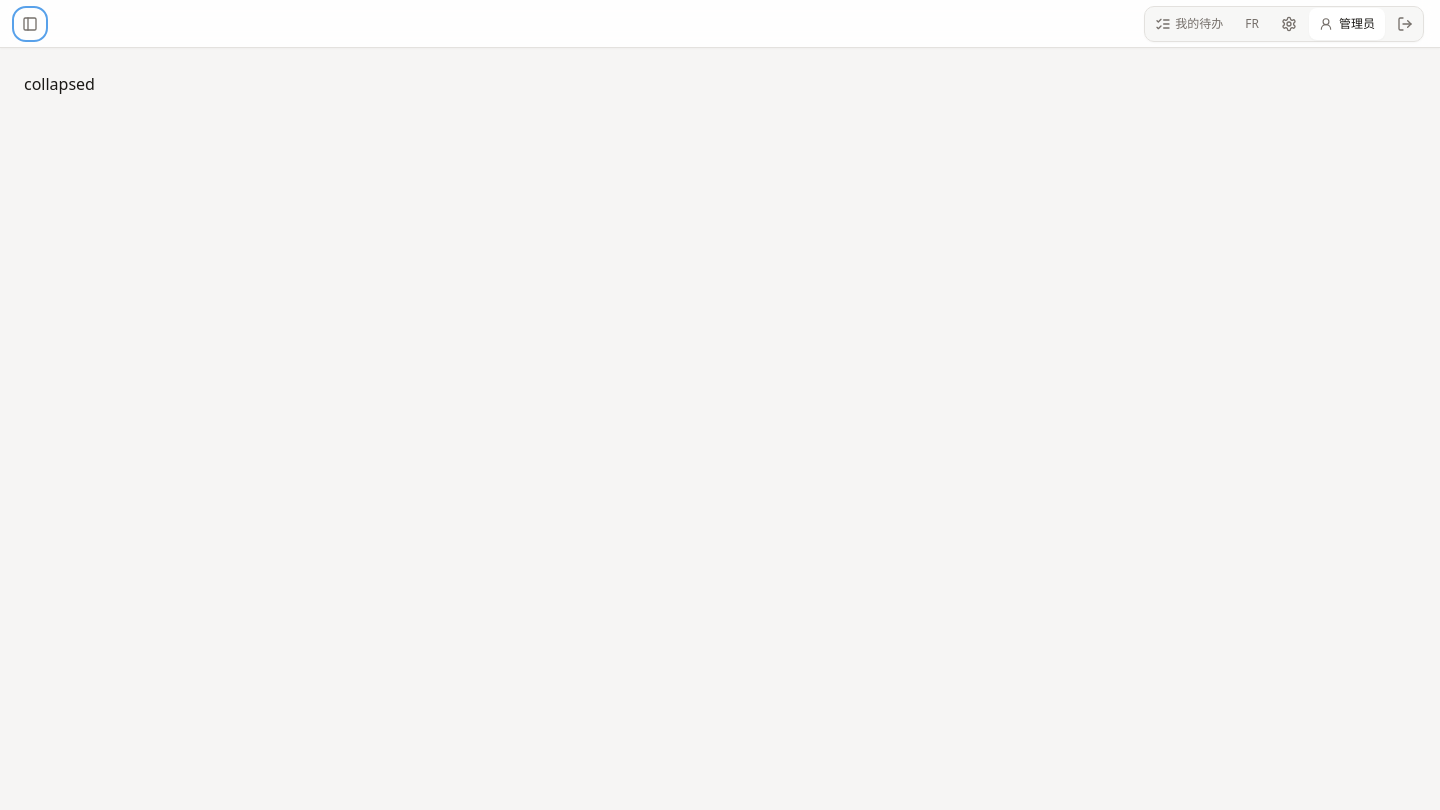
Test case: opens a named real Radix zh dialog even with a collapsed desktop preference
The image size is (1440, 810).
Expected: the text "collapsed" is shown, 24,73 -> 95,95
Click the button named "切换导航" at x=30, y=24, box 16,10 -> 44,38
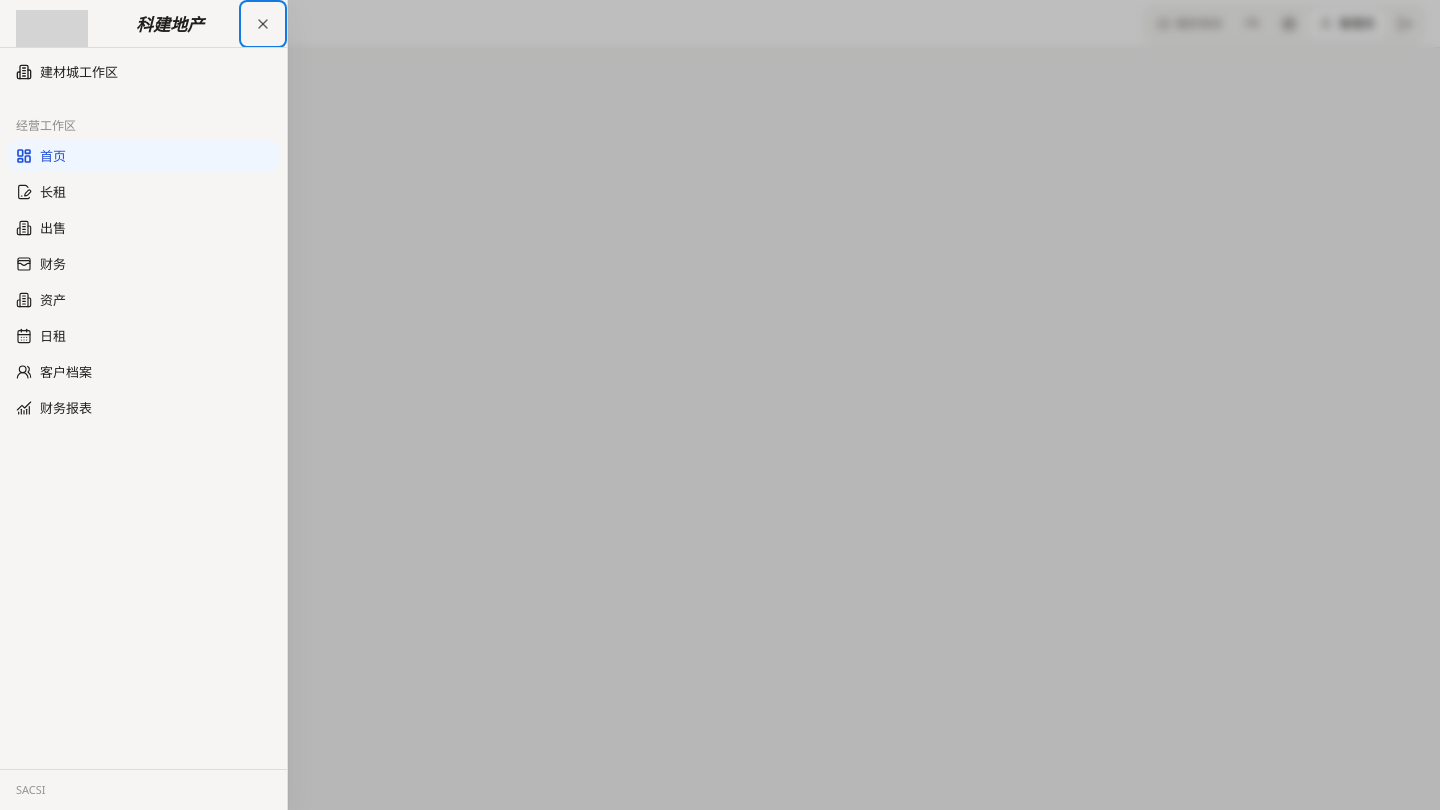
Now the dialog is shown, box 0,0 -> 288,809
